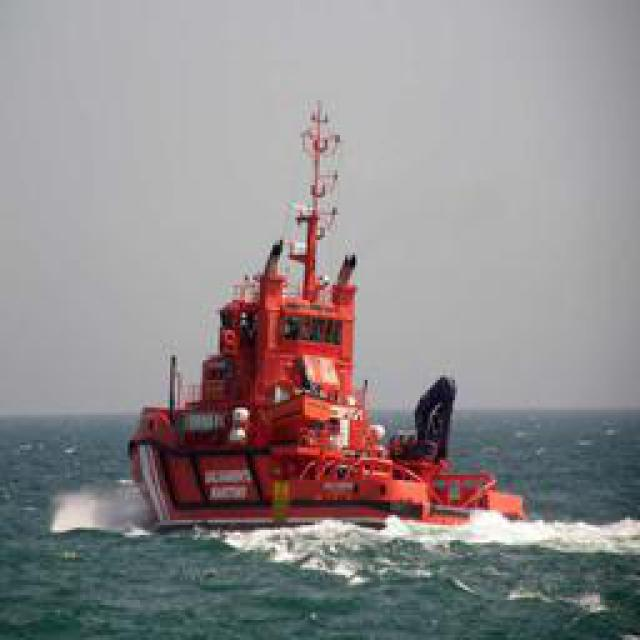Ship: (125, 100, 508, 535)
